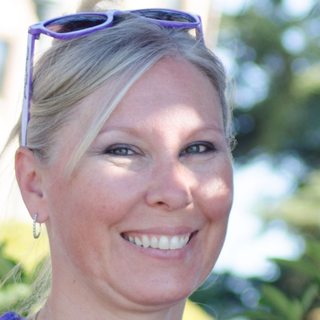eye: (96, 134, 146, 168), (172, 136, 217, 164)
